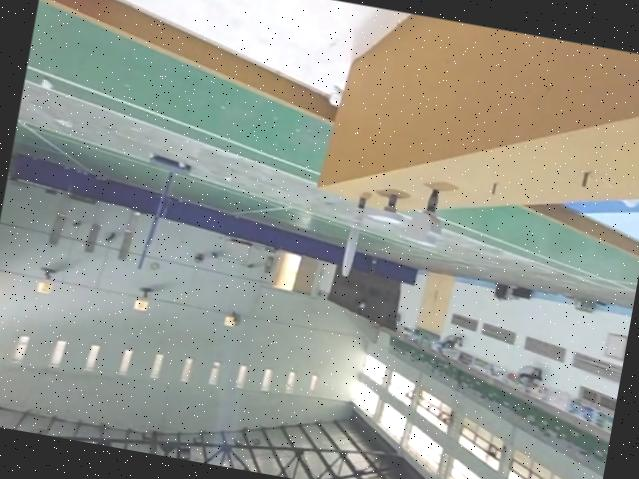Fist: (401, 182, 451, 247)
Hand: (371, 192, 405, 226)
Sph: (339, 191, 371, 275)
